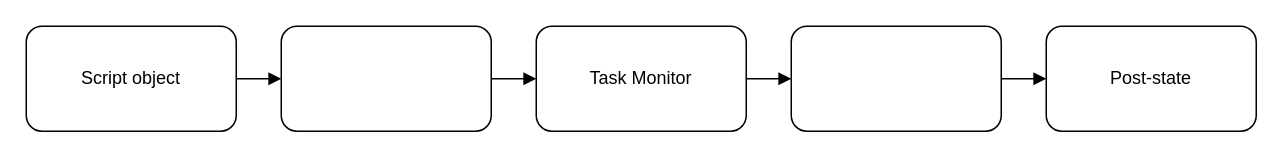
This 1283x158 diagram has some shape labels left out. The shapes that lost their labels are listed below. From the top down, each one's centre as x and y in pixels, then its label:
At (385,78): "Target selection".
At (895,78): "Managed device".
